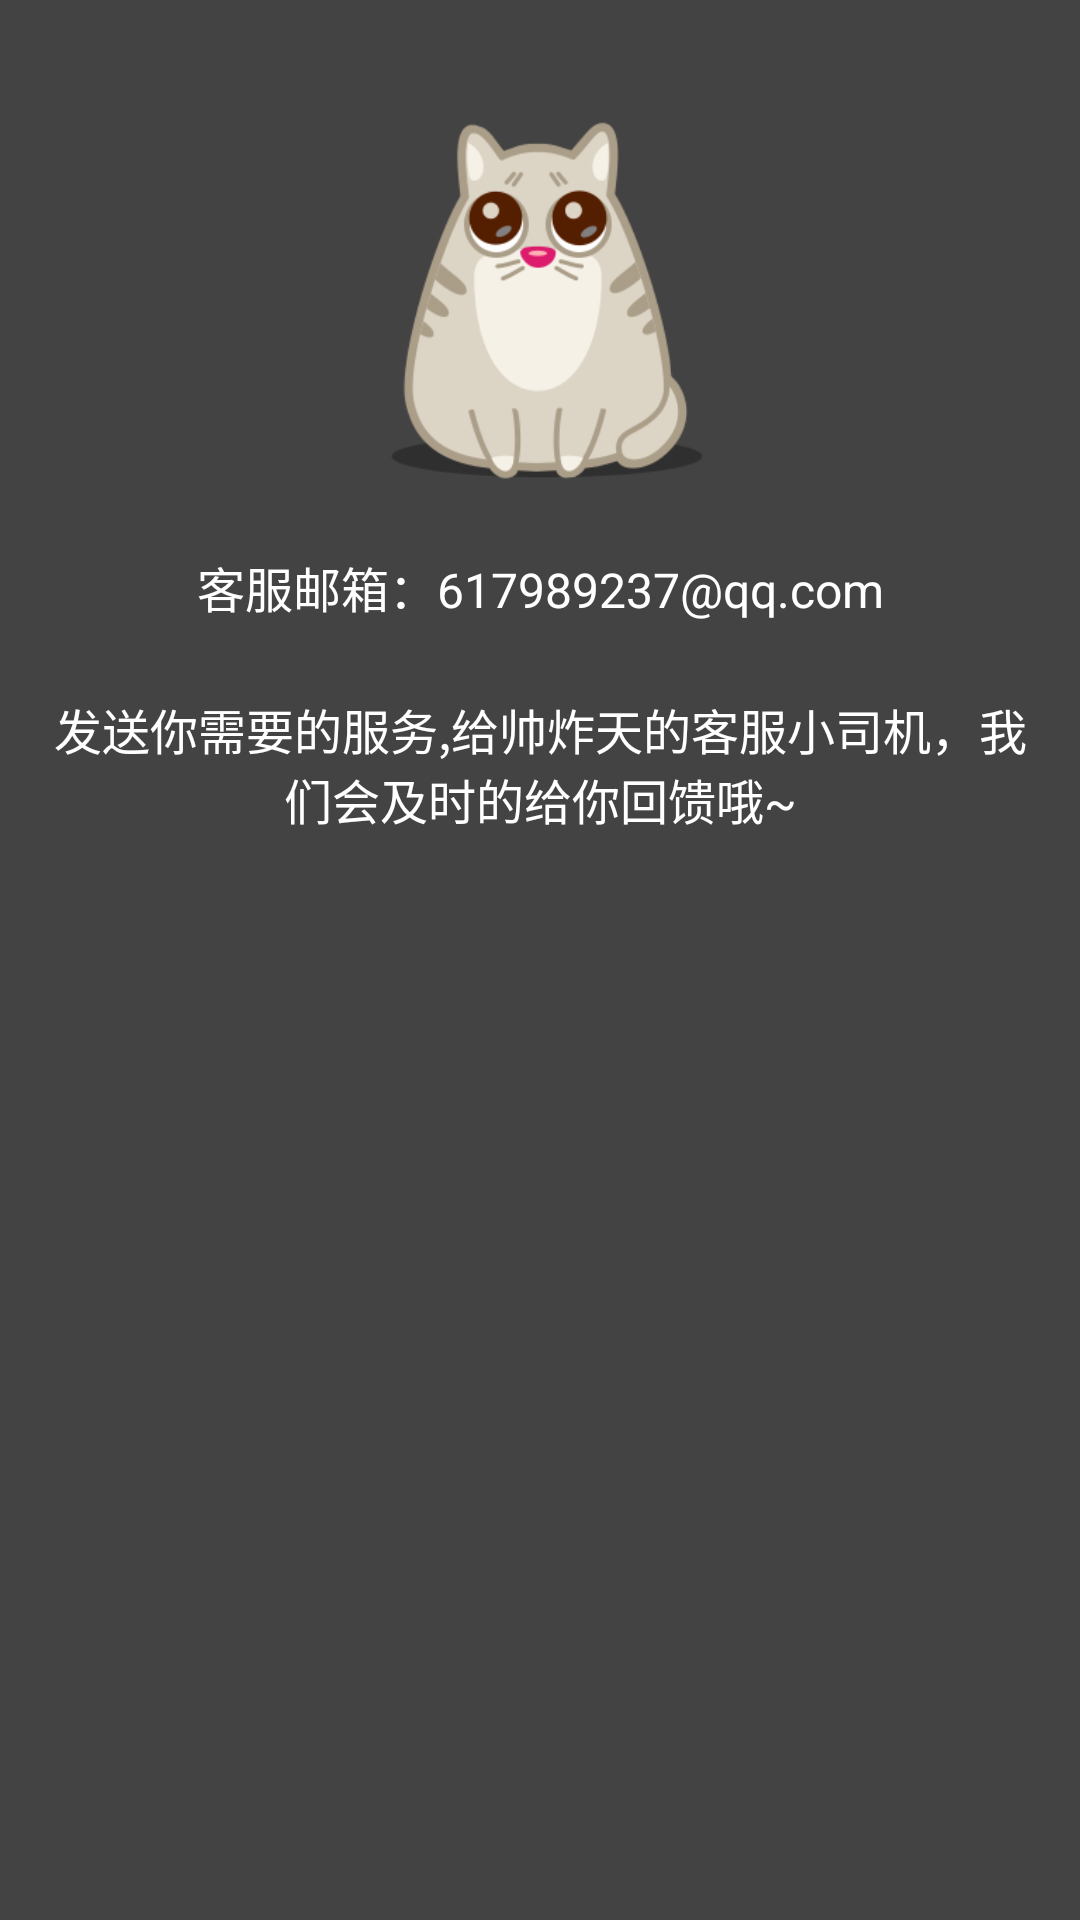

Named icons in this screenshot (1080px x 1920px) and their bounding boxes, [x1=x1, y1=y1, x2=x2, y2=y2]:
cat one: [x1=404, y1=123, x2=687, y2=479]
